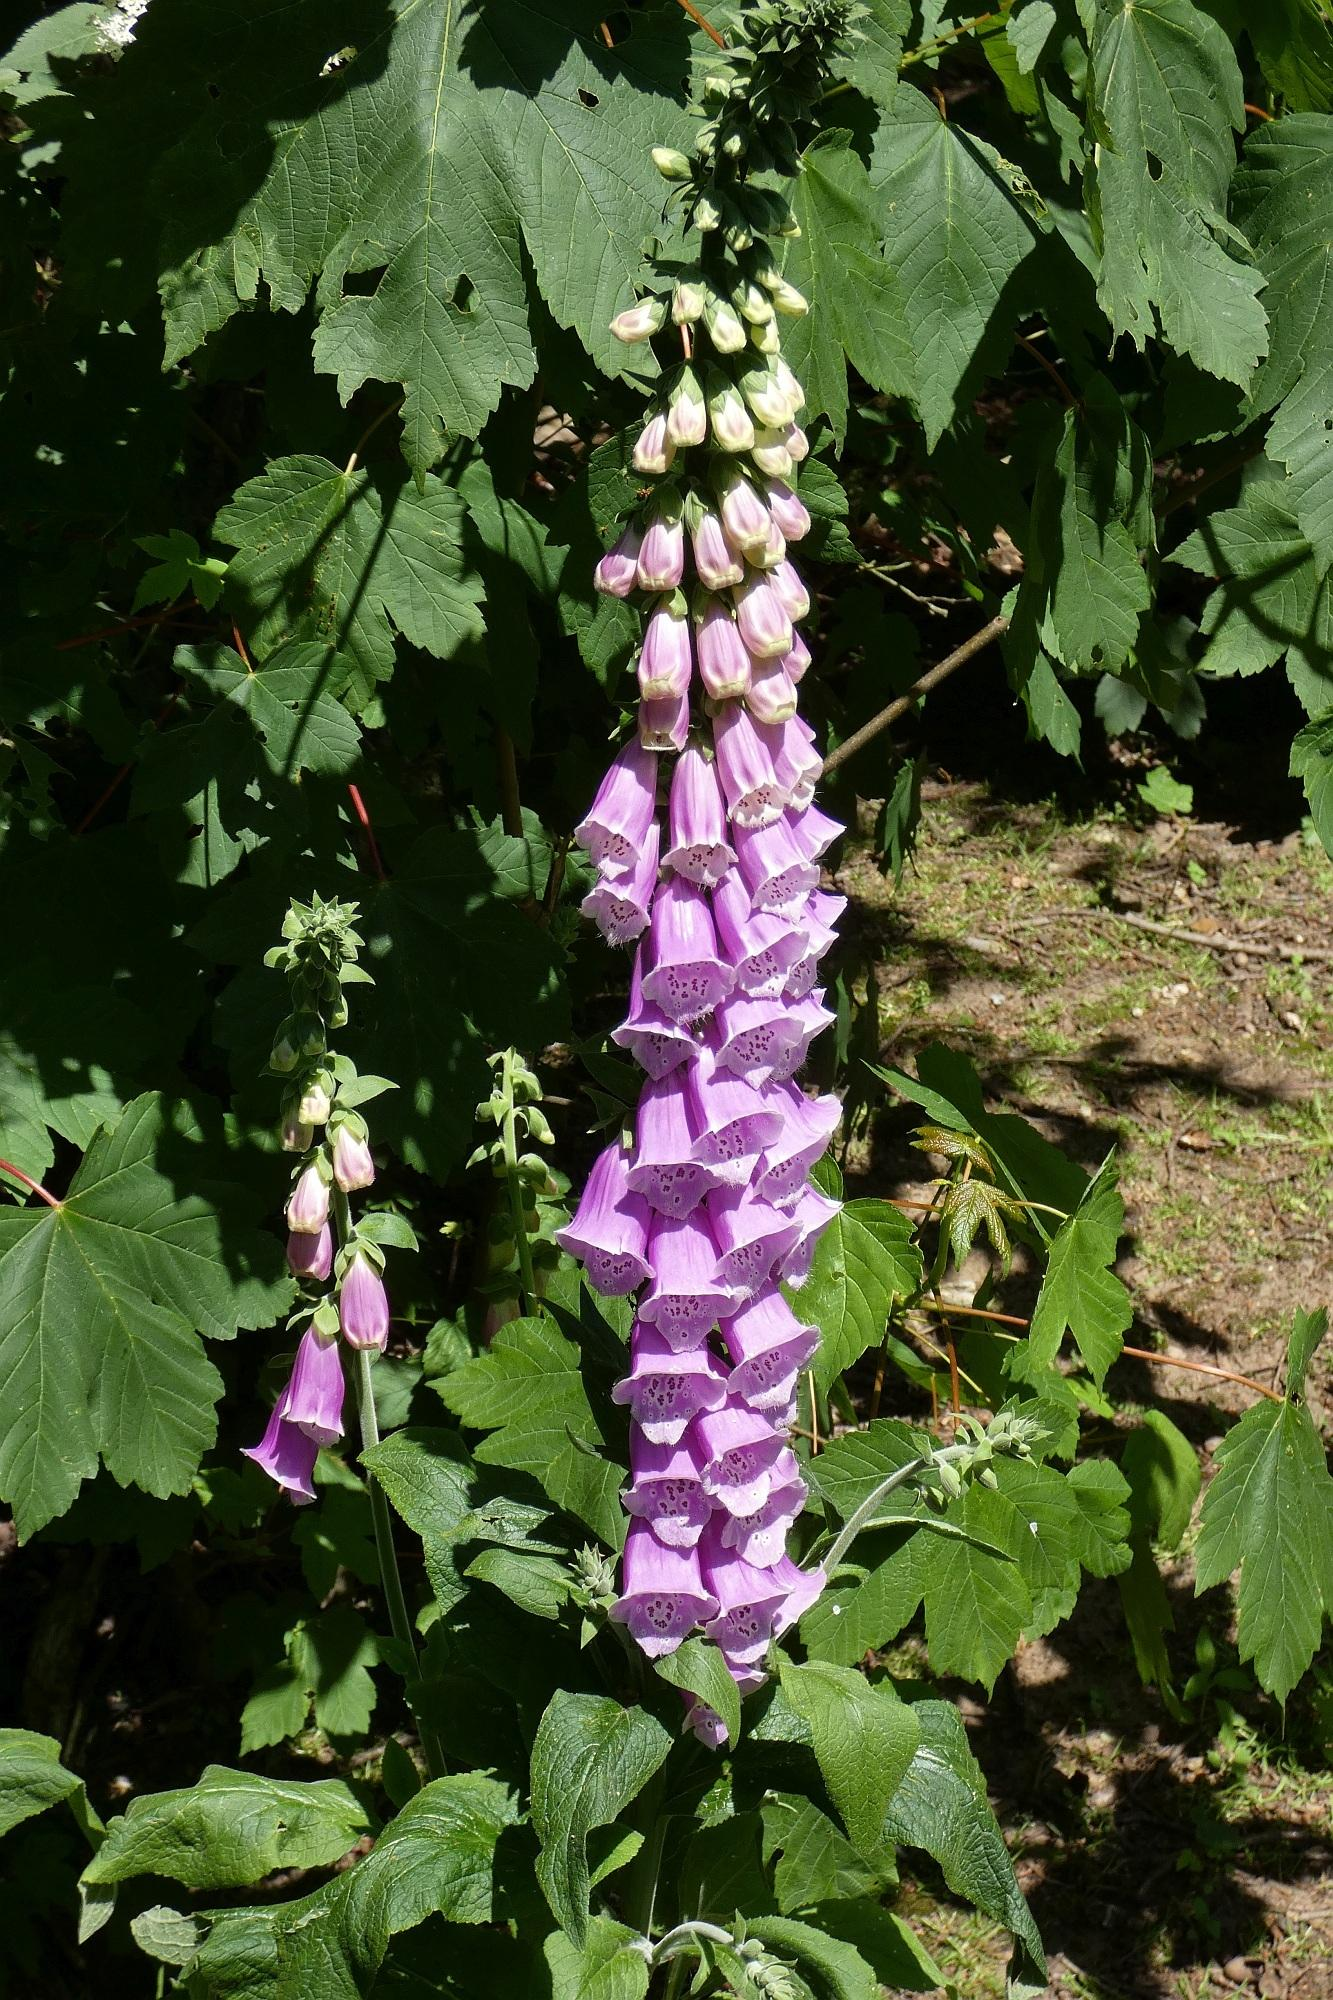Digitalis L: (585, 0, 913, 2000), (232, 877, 446, 1955)
